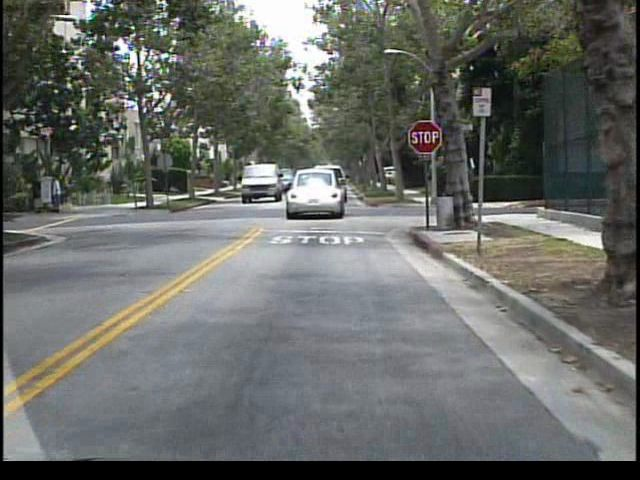person: (52, 169, 66, 215), (35, 173, 48, 216)
